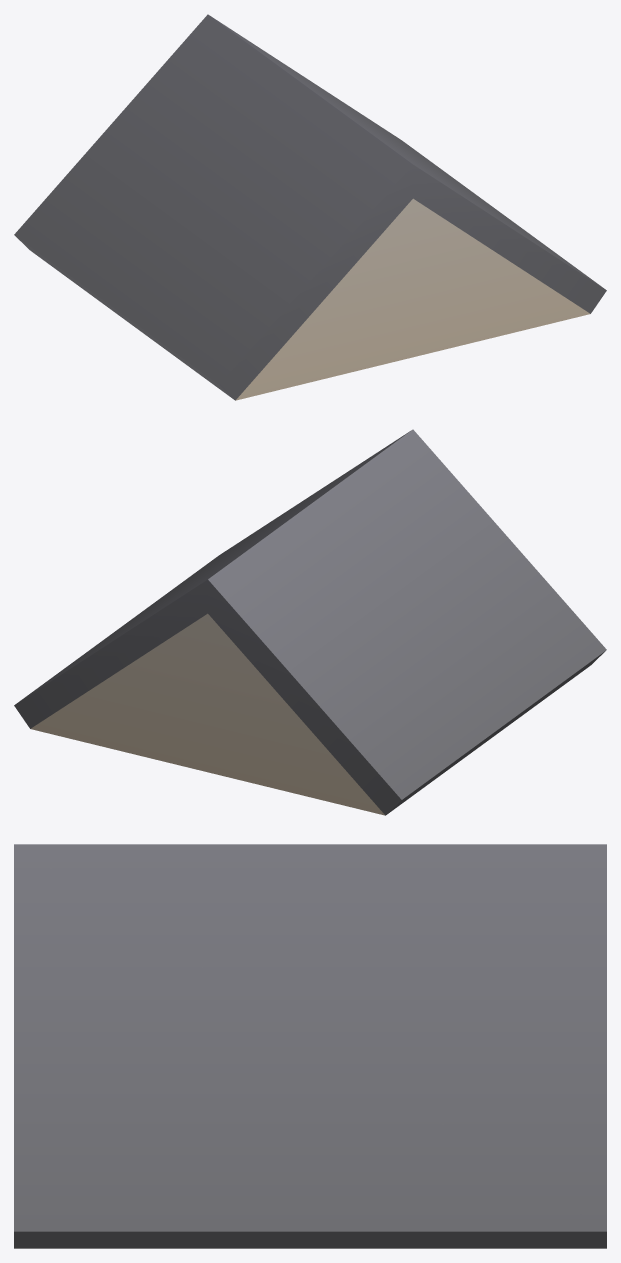
Rendered from roof-gable.glb.
3 renders of one model, top to bottom at view 1: azimuth 30°, elevation 25°; view 2: azimuth 150°, elevation 25°; view 3: azimuth 270°, elevation 25°, orthographic. The views are drawn at different scales.
Visible parts, largest first — view 1: roof-gable; view 2: roof-gable; view 3: roof-gable.
Part boxes in pixels (x1=…): roof-gable: x1=14, y1=14, x2=606, y2=400; roof-gable: x1=14, y1=429, x2=606, y2=815; roof-gable: x1=14, y1=844, x2=606, y2=1248.
Size of the model in its own units: 1.09 by 0.5188 by 1.
